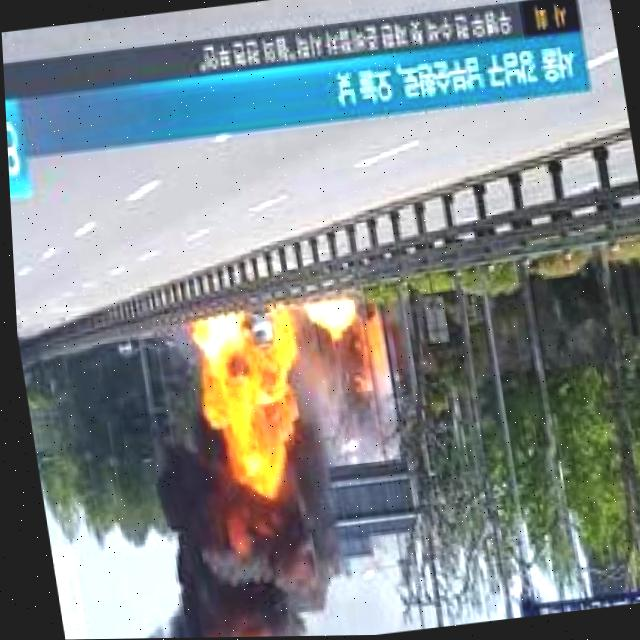Fire: (183, 308, 305, 484), (300, 299, 354, 344), (363, 320, 383, 392)
Smoke: (65, 478, 346, 639)
